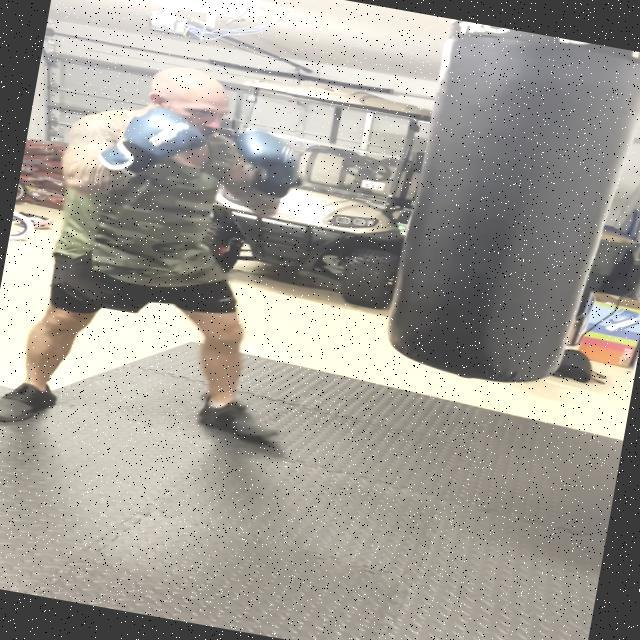bag: (382, 17, 626, 394)
no punch: (53, 48, 320, 244)
